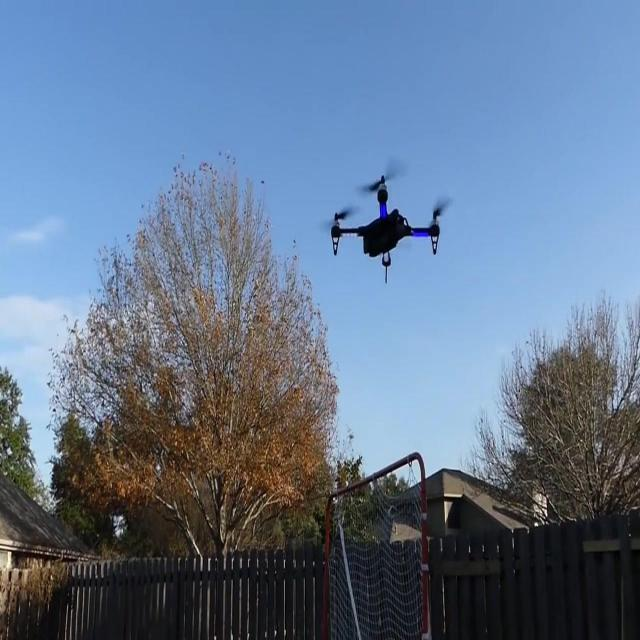UAV: (320, 162, 456, 284)
